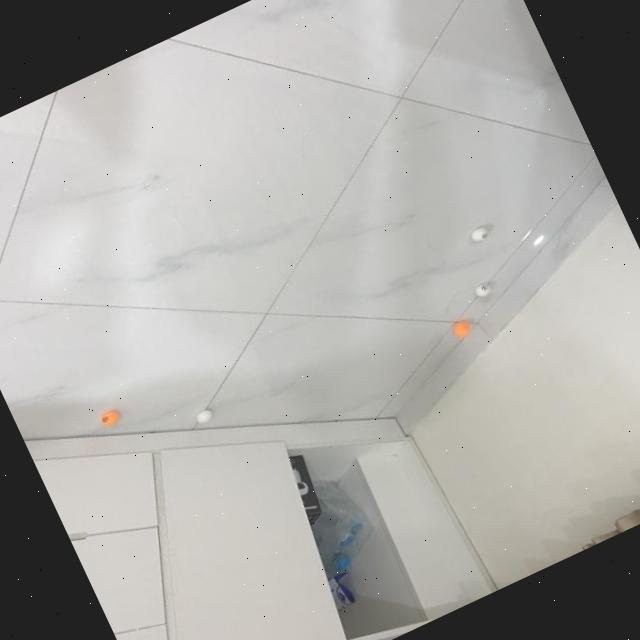ping-pong-ball: (190, 404, 217, 429), (470, 278, 496, 302), (448, 318, 473, 342), (97, 406, 123, 429), (468, 223, 492, 245)
